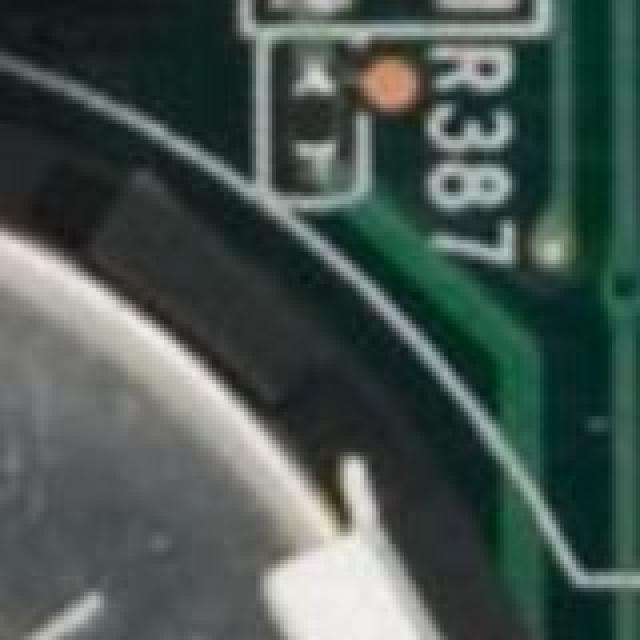battery: (0, 128, 480, 640)
resistor: (276, 76, 334, 176)
